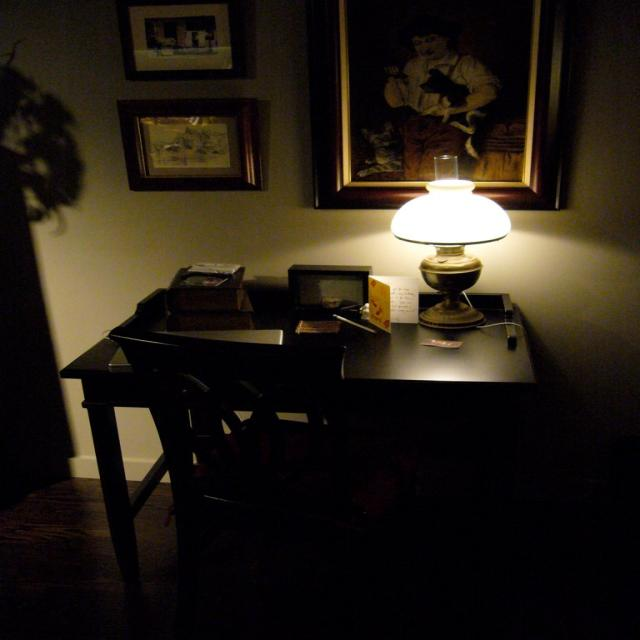Table: (59, 264, 557, 591)
chair: (131, 364, 492, 640)
